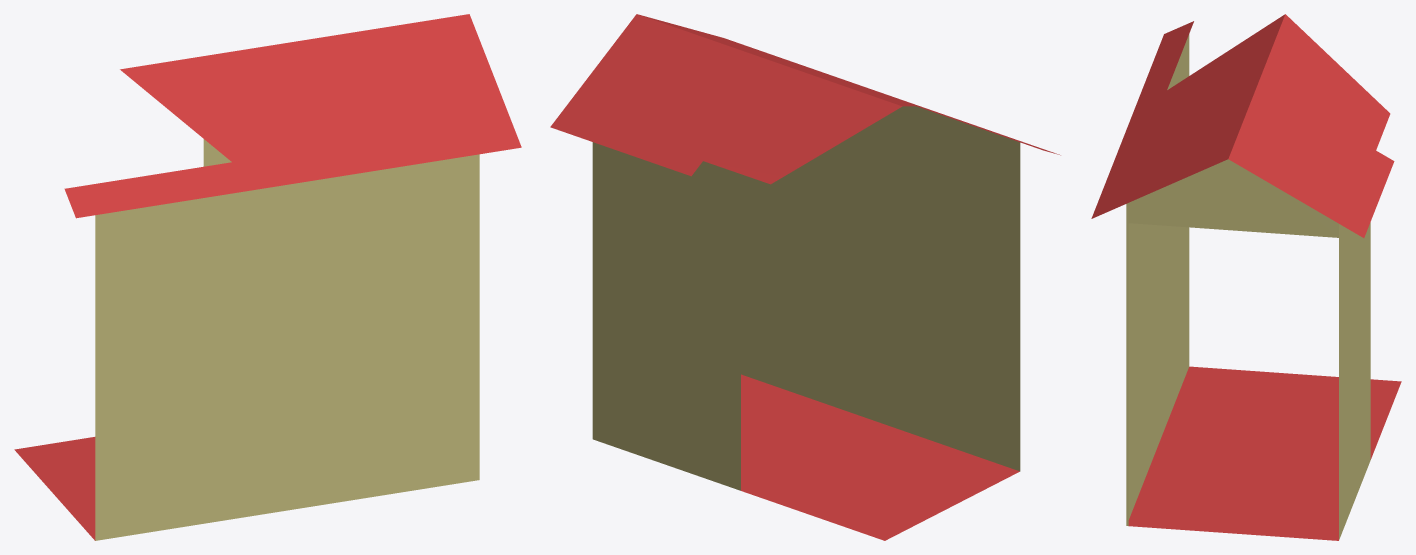
3 renders of one model, left to right at view 1: azimuth 30°, elevation 25°; view 2: azimuth 150°, elevation 25°; view 3: azimuth 270°, elevation 25°, orthographic. The views are drawn at different scales.
Size of the model in its own units: 11.83 by 7.6 by 10.46.
